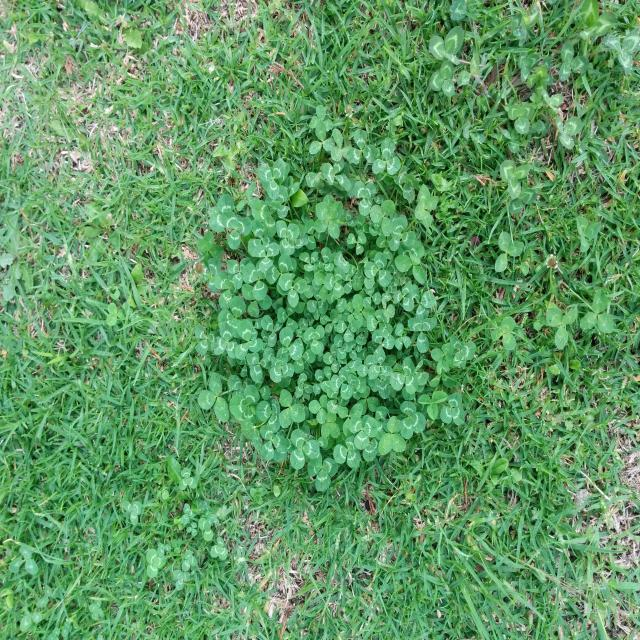Four Leaf Clover: (314, 194, 344, 239), (414, 184, 439, 228)
